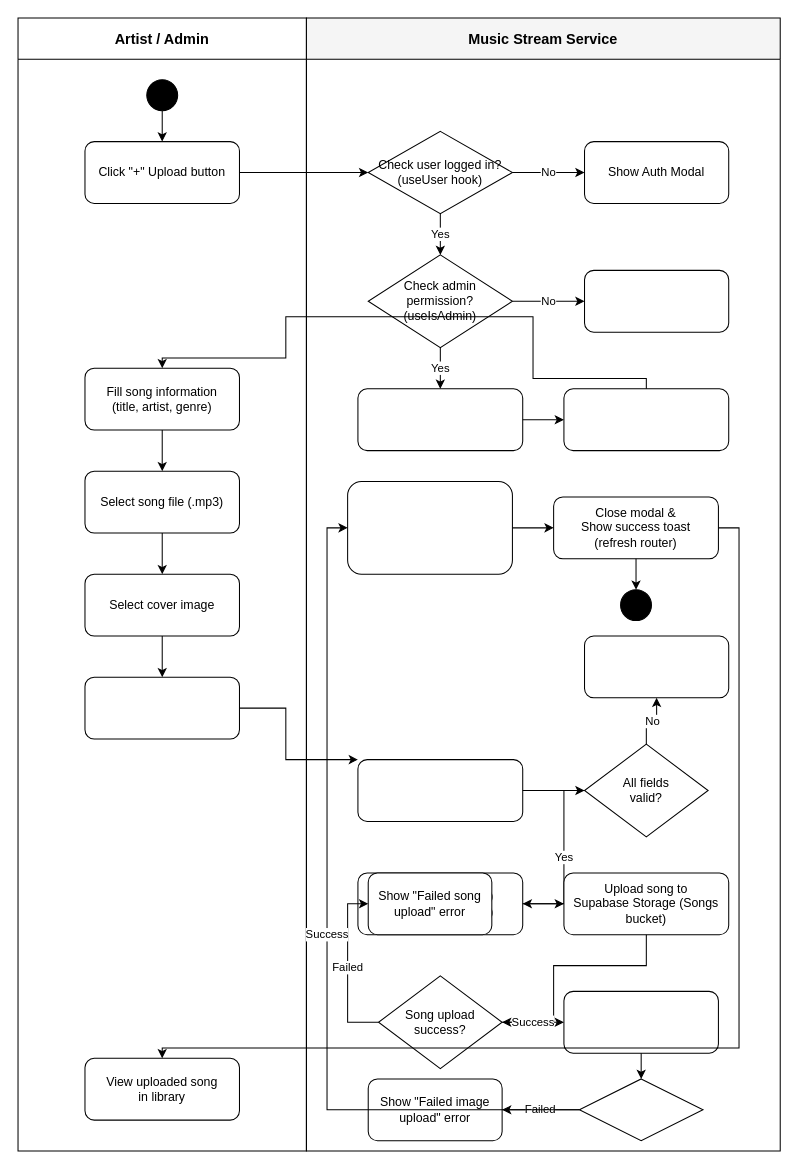
The diagram is 798 pixels wide and 1169 high, and some of its shapes have lost their labels. Here are the shapes that lost their labels. From the top down, the centre of each, then its label:
the point at 656,300: Show "Access Denied" message
the point at 440,419: Open UploadModal (useUploadModal.onOpen)
the point at 646,419: Display upload form (react-hook-form)
the point at 429,527: Create record in songs table (with artist_id, title, author, paths, genre)
the point at 656,666: Show "Missing fields" error
the point at 161,707: Click "Create" button
the point at 440,790: Validate all fields (required fields)
the point at 640,1021: Upload image to Supabase Storage (image bucket)
the point at 640,1109: Image upload success?
